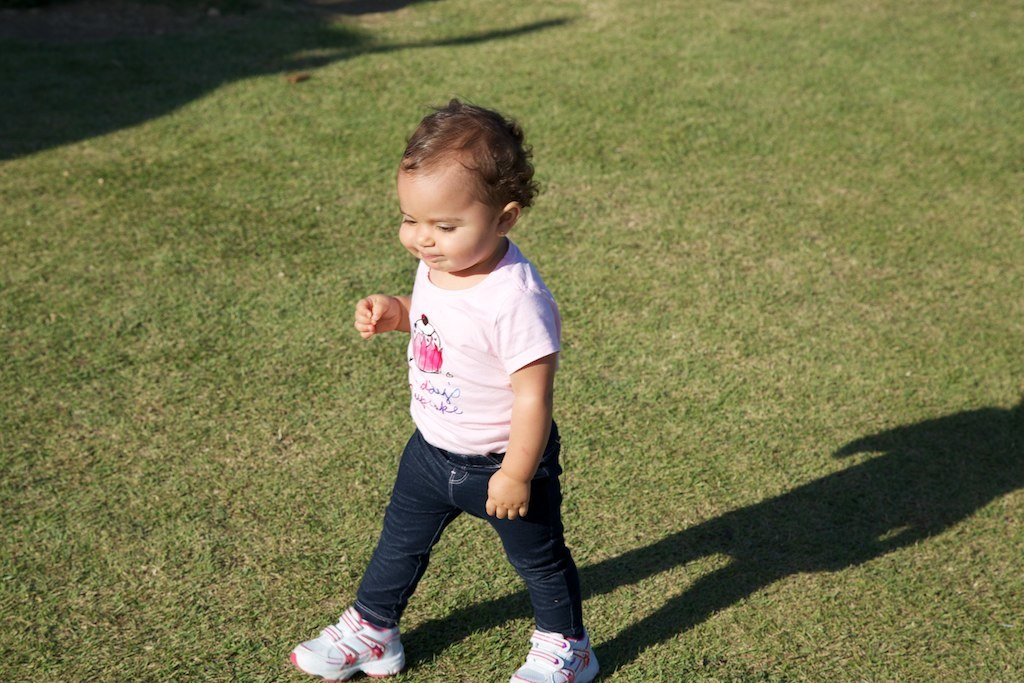Human_hand: (344, 286, 413, 349), (484, 466, 532, 521)
